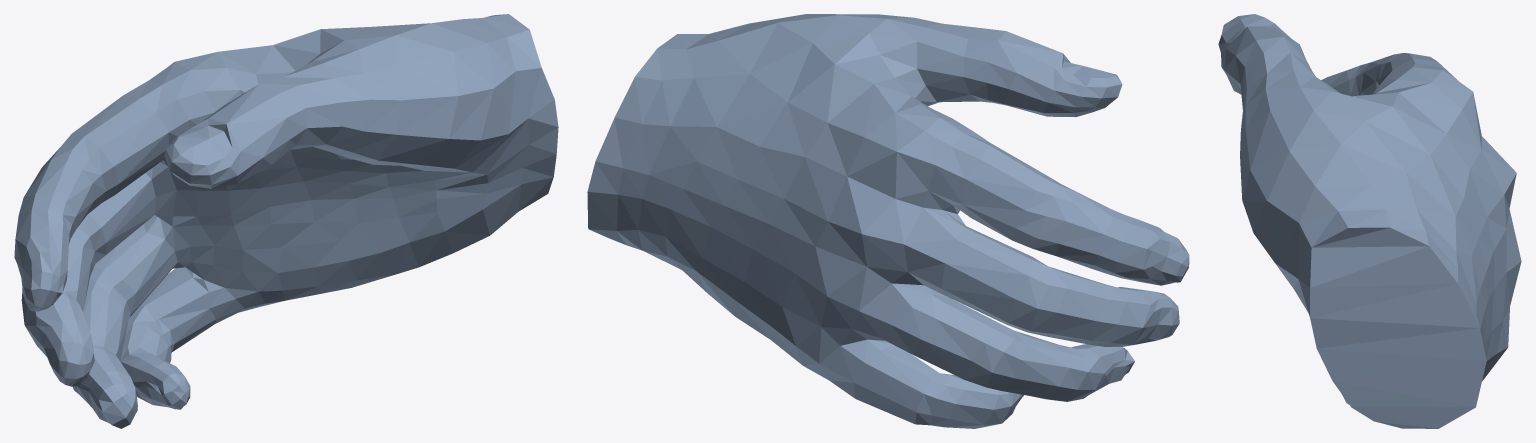
Rendered from frame_00015_0.obj.
3 renders of one model, left to right at view 1: azimuth 30°, elevation 25°; view 2: azimuth 150°, elevation 25°; view 3: azimuth 270°, elevation 25°, orthographic. The views are drawn at different scales.
Bounding box in the file's own units: 0.1687 × 0.1022 × 0.0808.
